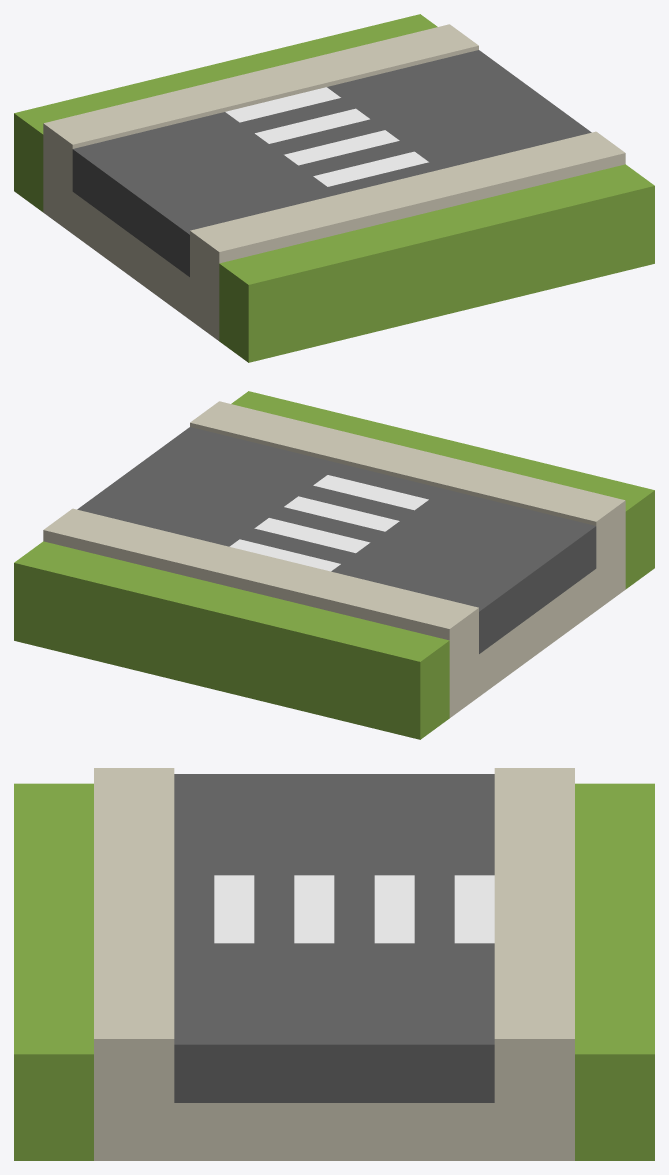
The model's file is tile169.fbx.
3 renders of one model, top to bottom at view 1: azimuth 30°, elevation 25°; view 2: azimuth 150°, elevation 25°; view 3: azimuth 270°, elevation 25°, orthographic. The views are drawn at different scales.
Parts seen in each view (by area): view 1: tile169; view 2: tile169; view 3: tile169.
Part boxes in pixels (x1,y1,x2,y2): tile169: [14, 14, 654, 362]; tile169: [14, 391, 654, 739]; tile169: [14, 768, 654, 1160].
Size of the model in its own units: 10 by 2.1 by 10.
